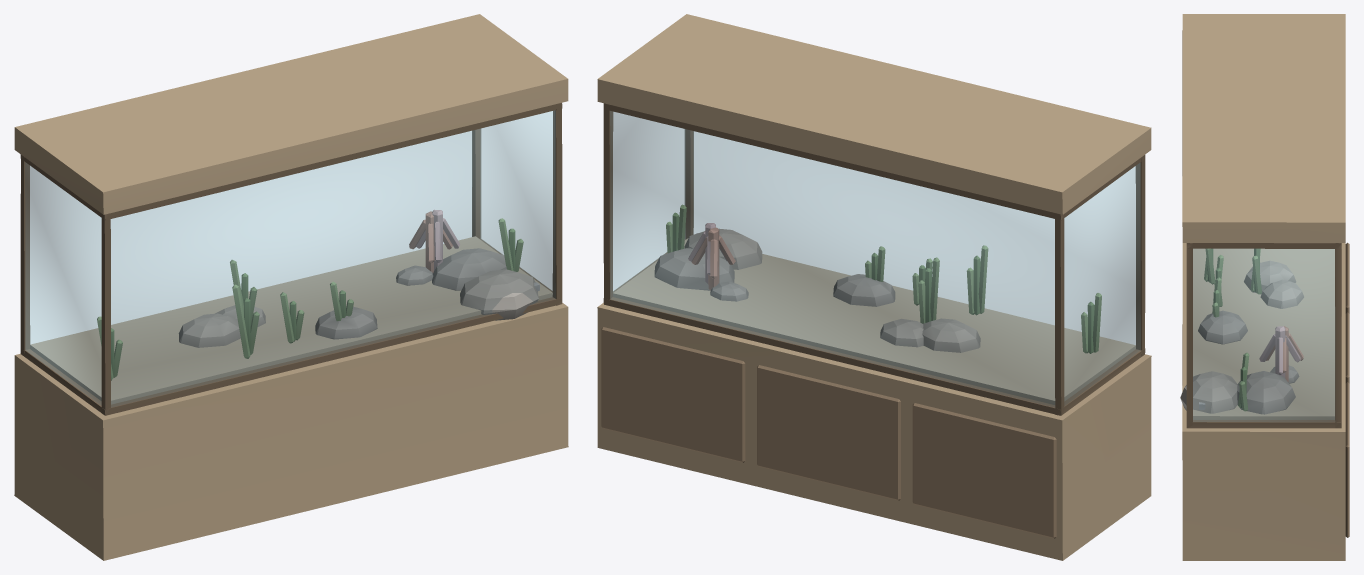
File: furn_aquarium_big__oak_low.glb
3 renders of one model, left to right at view 1: azimuth 30°, elevation 25°; view 2: azimuth 150°, elevation 25°; view 3: azimuth 270°, elevation 25°, orthographic. The views are drawn at different scales.
Size of the model in its own units: 2.39 by 1.82 by 0.8214.
